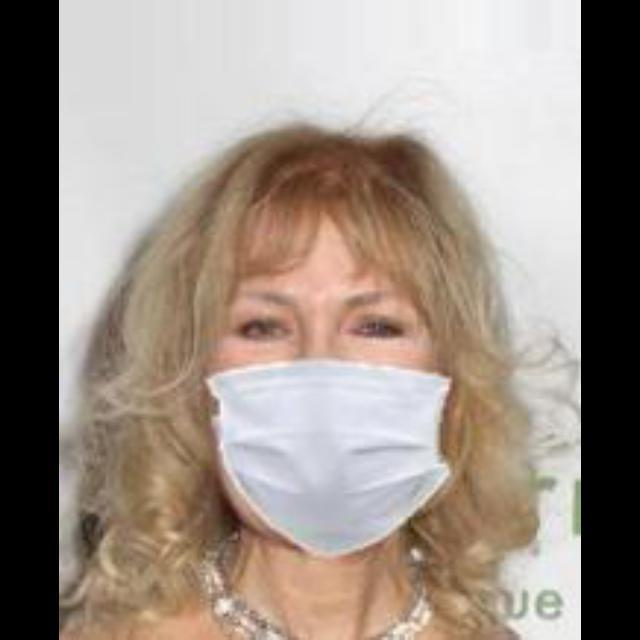suspicion: (207, 161, 488, 563)
